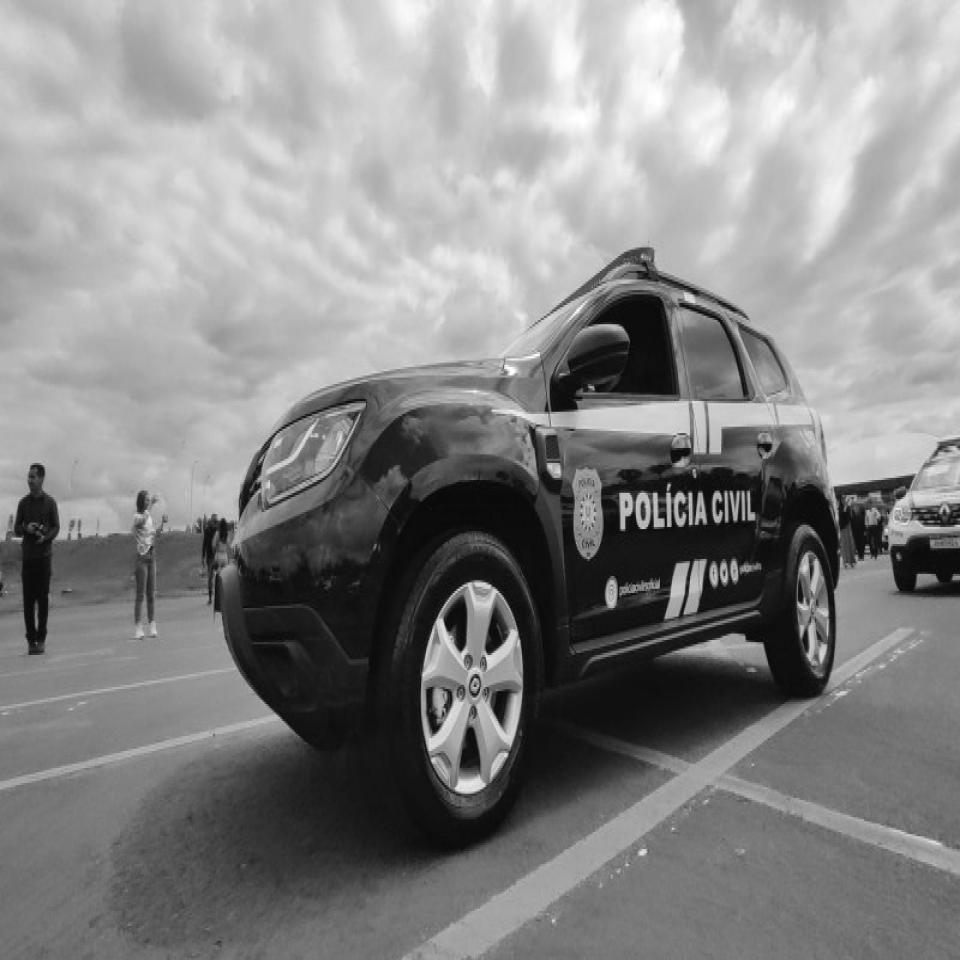viatura: (220, 241, 842, 850)
